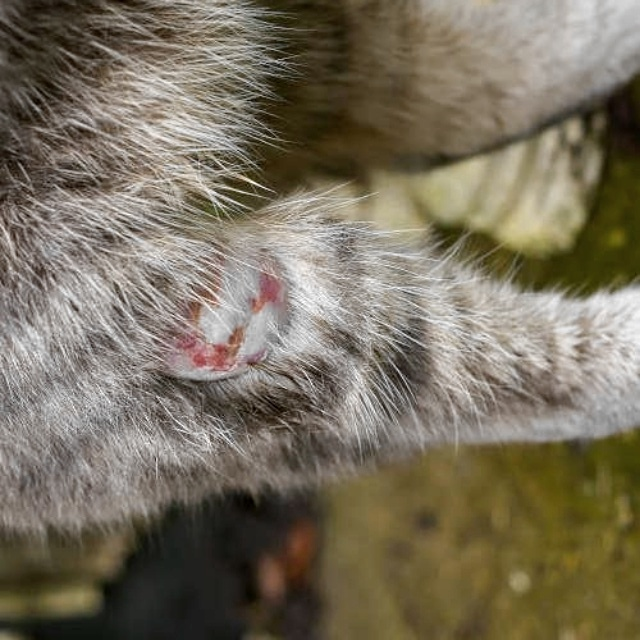lump_and_bump: (144, 252, 290, 384)
